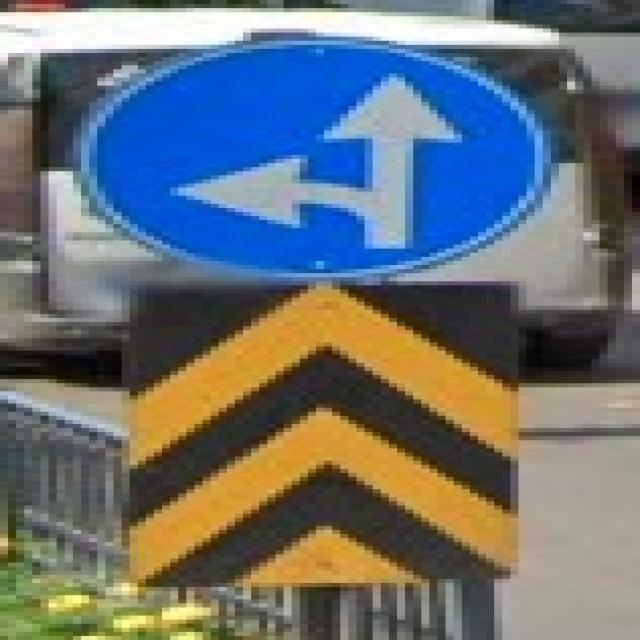Straight or Left: (78, 40, 548, 276)
